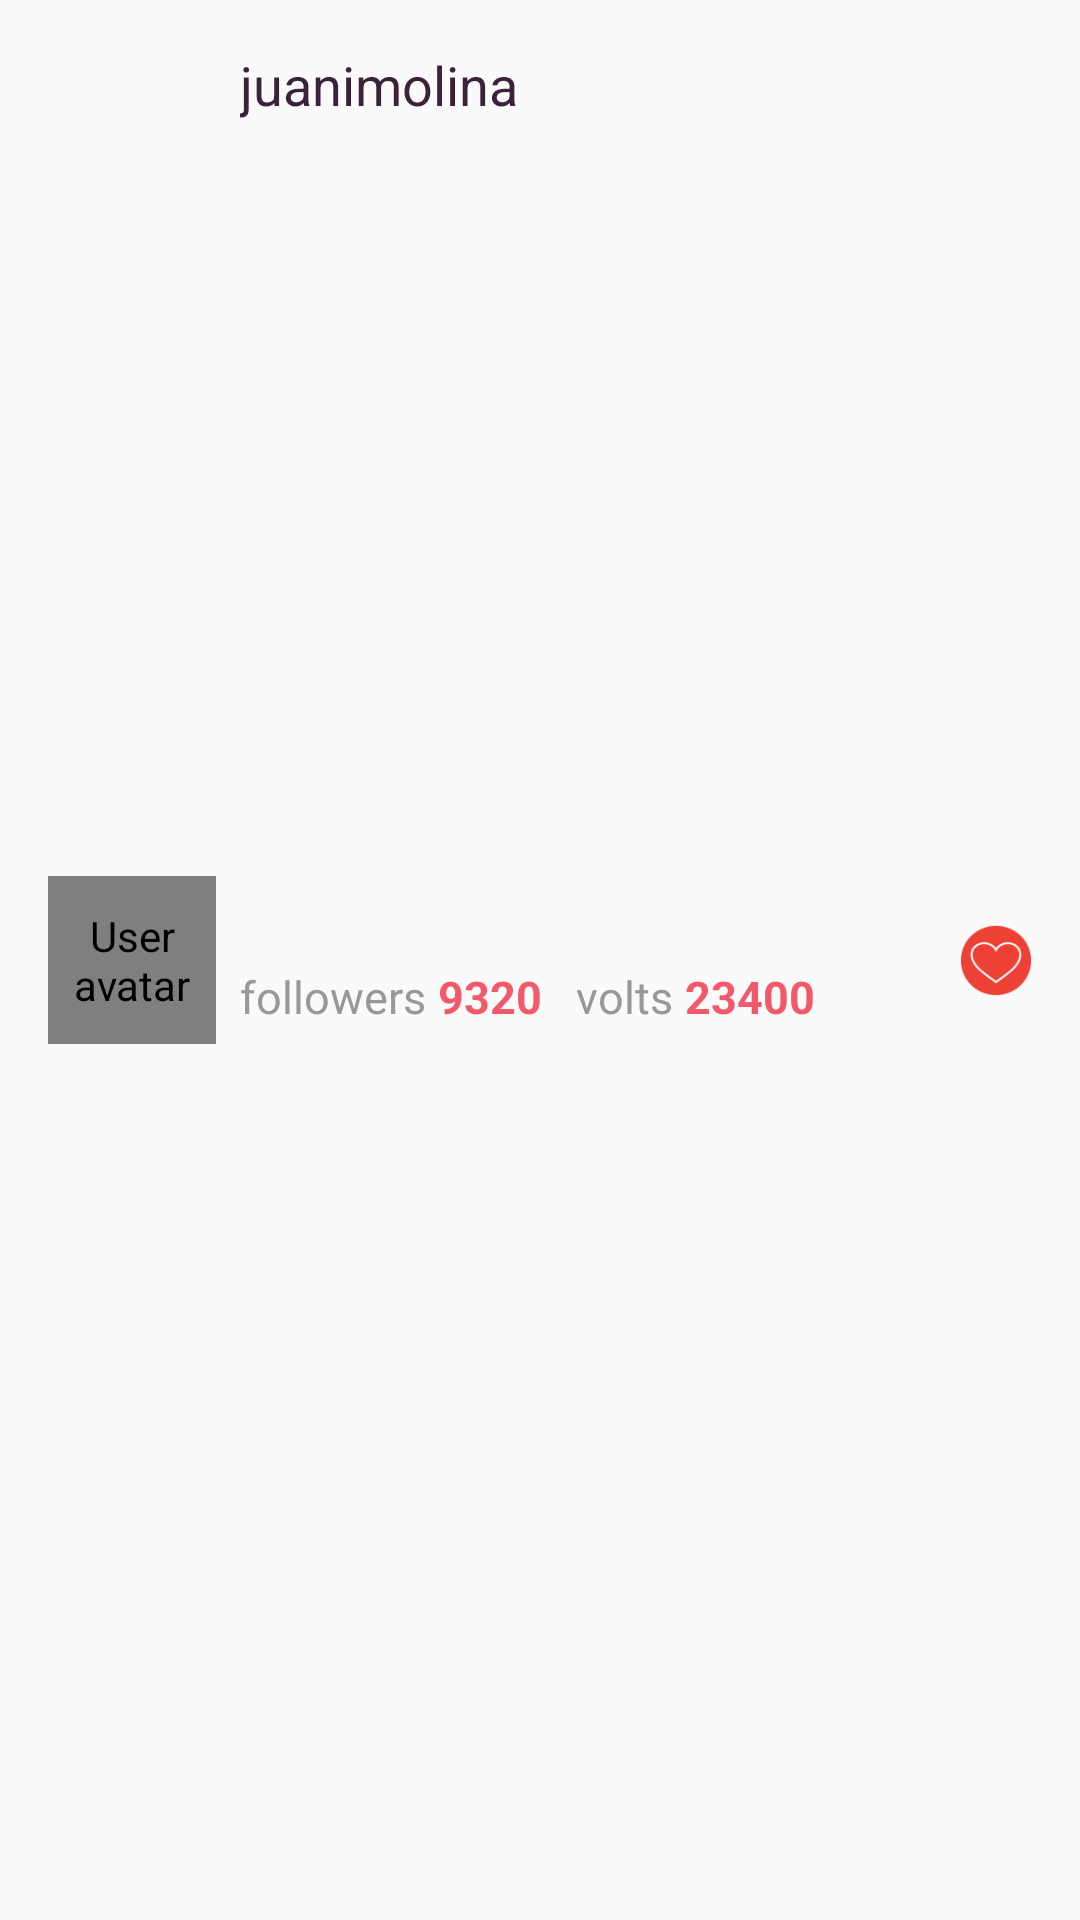

Icons on this 1080px x 1920px Android screen, each with the point to tap as point (x, y):
likeon: point (996, 960)
